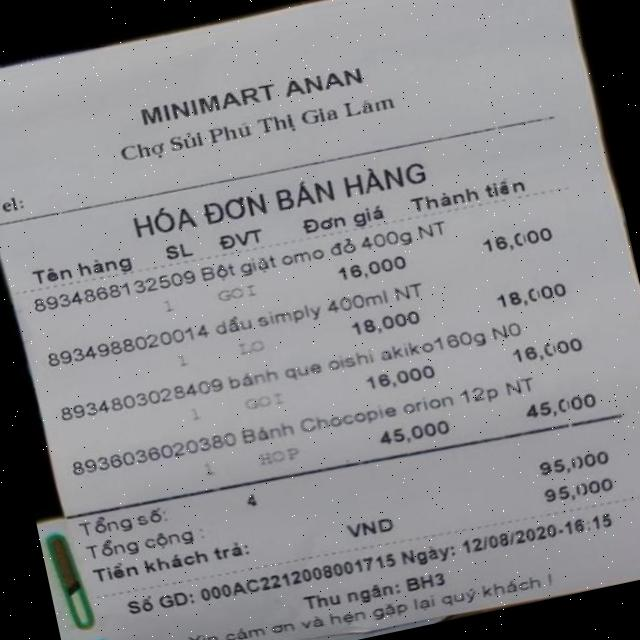Date: (457, 514, 561, 560)
Store_Name: (118, 44, 389, 138)
amount_number: (526, 438, 614, 488)
label_total: (84, 518, 198, 568)
